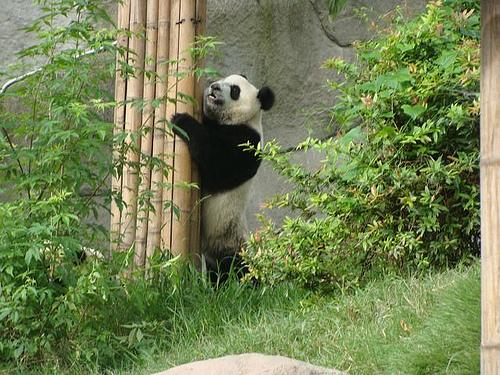panda: (172, 74, 274, 280)
